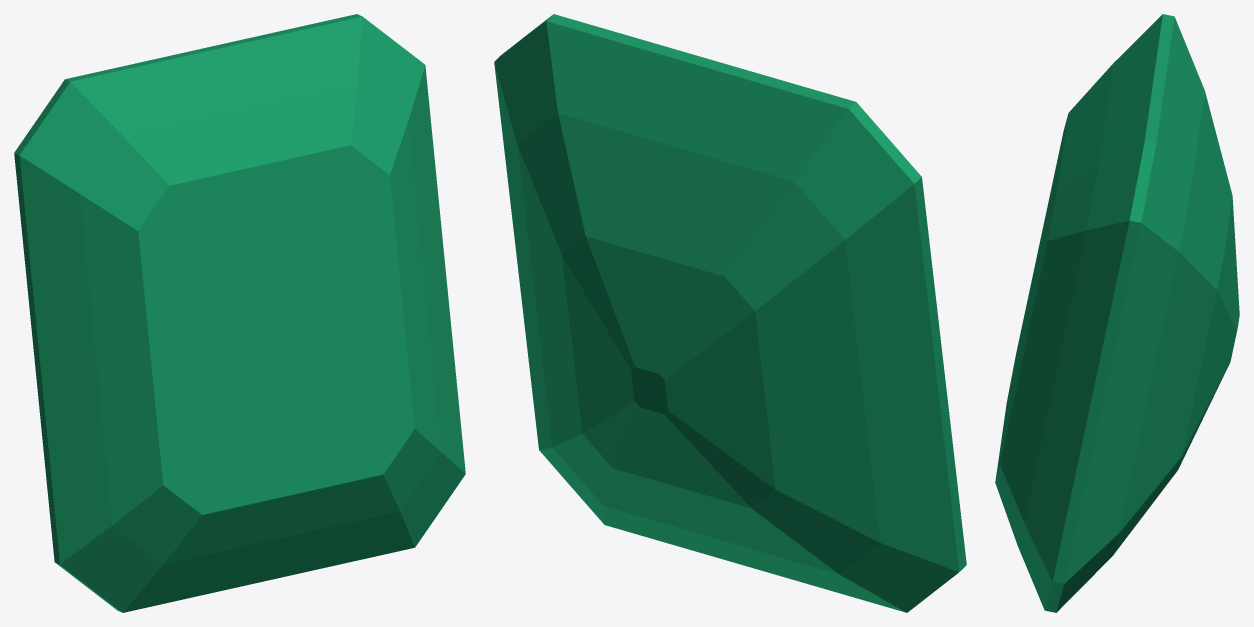
File: emerald.glb
The picture shows the model from 3 angles, left to right: view 1: azimuth 30°, elevation 25°; view 2: azimuth 150°, elevation 25°; view 3: azimuth 270°, elevation 25°; orthographic projection. The views are drawn at different scales.
Parts seen in each view (by area): view 1: emerald; view 2: emerald; view 3: emerald.
Boxes of the visible parts, box(x1,y1,x2,y2) form: emerald: box(14, 14, 465, 612); emerald: box(494, 14, 966, 612); emerald: box(995, 14, 1239, 612).
Bounding box in the file's own units: 1.92 × 2.33 × 1.09.
